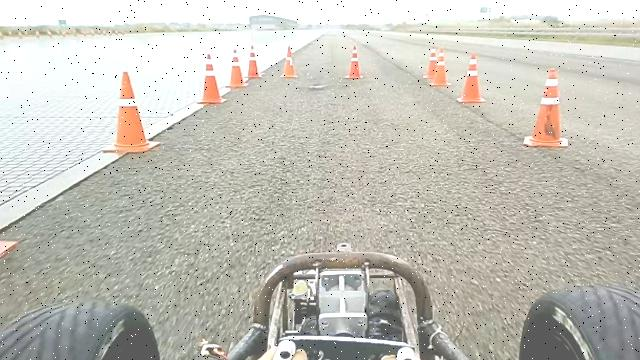red cone: (101, 70, 161, 154), (522, 67, 568, 148), (196, 53, 227, 104), (456, 53, 487, 103), (225, 48, 249, 88), (429, 47, 451, 86), (344, 44, 364, 80), (245, 44, 263, 79), (280, 45, 298, 78), (422, 46, 438, 79)
